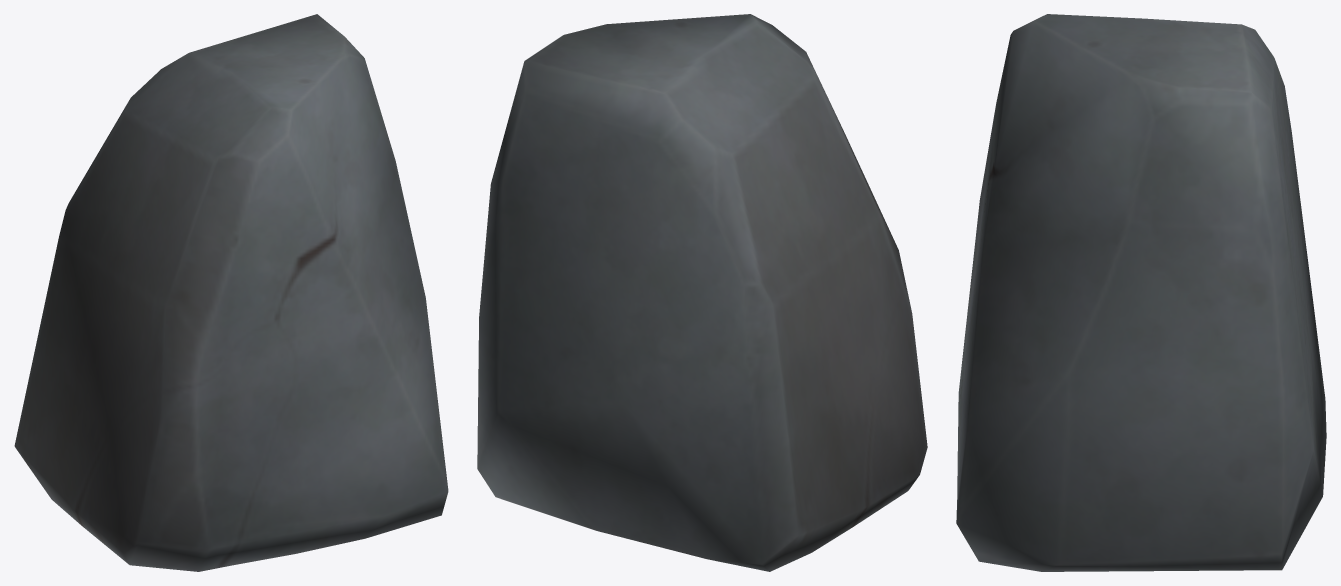
File: SM_Rock_02.glb
3 renders of one model, left to right at view 1: azimuth 30°, elevation 25°; view 2: azimuth 150°, elevation 25°; view 3: azimuth 270°, elevation 25°, orthographic. The views are drawn at different scales.
Parts seen in each view (by area): view 1: SM_Rock_02; view 2: SM_Rock_02; view 3: SM_Rock_02.
Part boxes in pixels (left/top/right/bottom): SM_Rock_02: left=14, top=14, right=448, bottom=571; SM_Rock_02: left=477, top=14, right=927, bottom=571; SM_Rock_02: left=956, top=14, right=1326, bottom=571.
Bounding box in the file's own units: 0.5346 × 0.6715 × 0.4749.
1 material, 1 textured.
